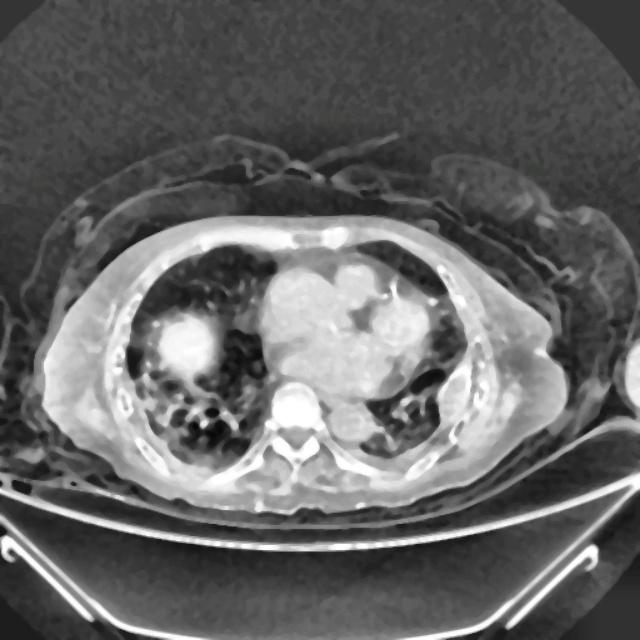covid: (39, 210, 571, 518)
